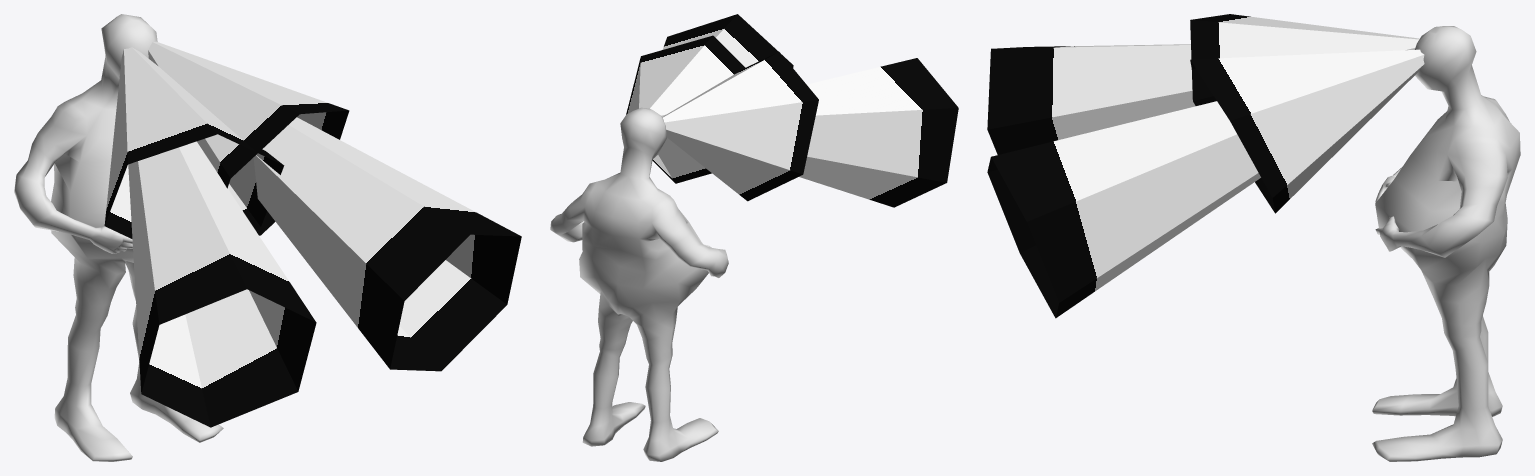
The model's file is Boss.fbx.
3 renders of one model, left to right at view 1: azimuth 30°, elevation 25°; view 2: azimuth 150°, elevation 25°; view 3: azimuth 270°, elevation 25°, orthographic. The views are drawn at different scales.
Visible parts, largest first — view 1: Boss_beam_Big, Boss, Boss_beam_small; view 2: Boss, Boss_beam_small, Boss_beam_Big; view 3: Boss_beam_Big, Boss, Boss_beam_small.
Boxes of the visible parts, left/top/right/bottom form: Boss_beam_Big: left=128, top=117, right=521, bottom=427; Boss: left=14, top=14, right=223, bottom=461; Boss_beam_small: left=104, top=41, right=349, bottom=238; Boss: left=550, top=107, right=728, bottom=461; Boss_beam_small: left=626, top=35, right=818, bottom=201; Boss_beam_Big: left=662, top=14, right=958, bottom=207; Boss_beam_Big: left=987, top=44, right=1260, bottom=318; Boss: left=1372, top=26, right=1520, bottom=461; Boss_beam_small: left=1190, top=14, right=1424, bottom=213.
Size of the model in its own units: 272 by 289 by 346.
